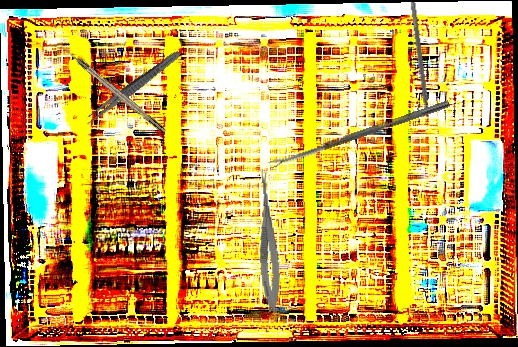Dressing Forceps: (82, 47, 184, 128)
Hook Surgical: (58, 42, 167, 135)
Micro Scissor: (251, 167, 284, 313)
Spatula Surgical: (404, 1, 433, 126)
Surgical Spoon: (267, 99, 451, 169)
